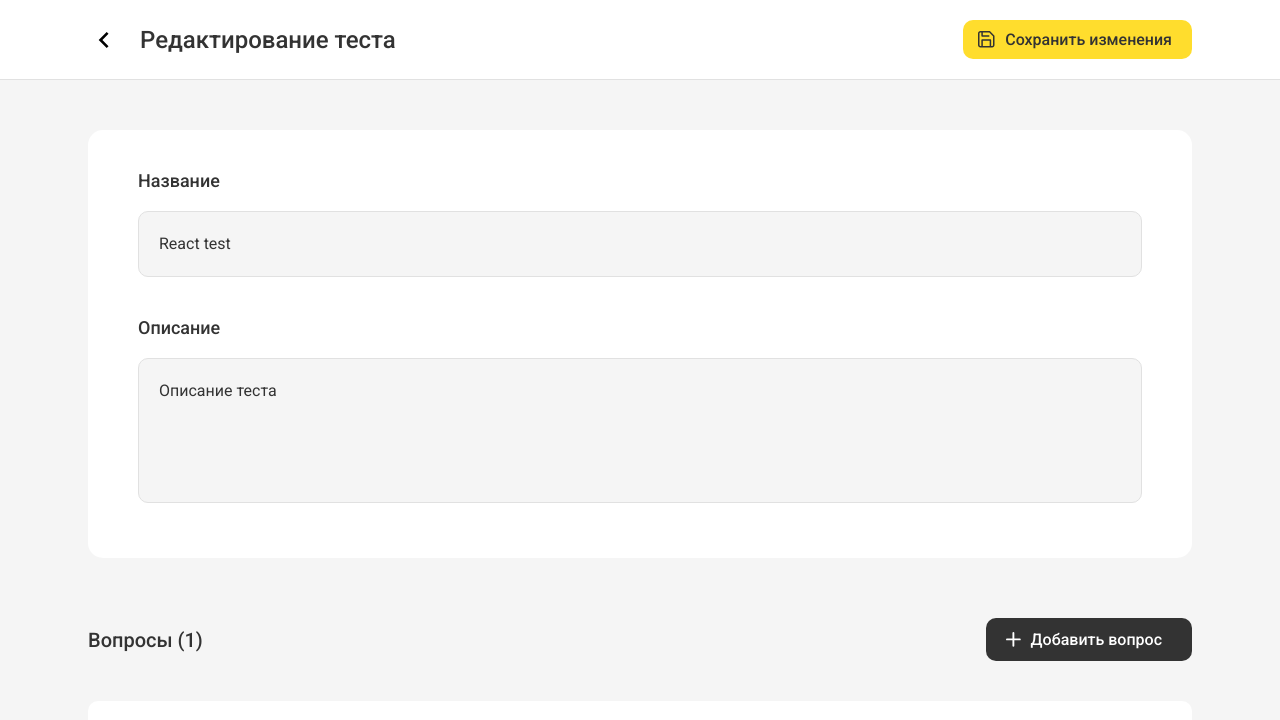
it: EditTestPage › saving › does not save when title is empty
Clear the field showing "React test" at (640,244), box [138,211,1142,277]
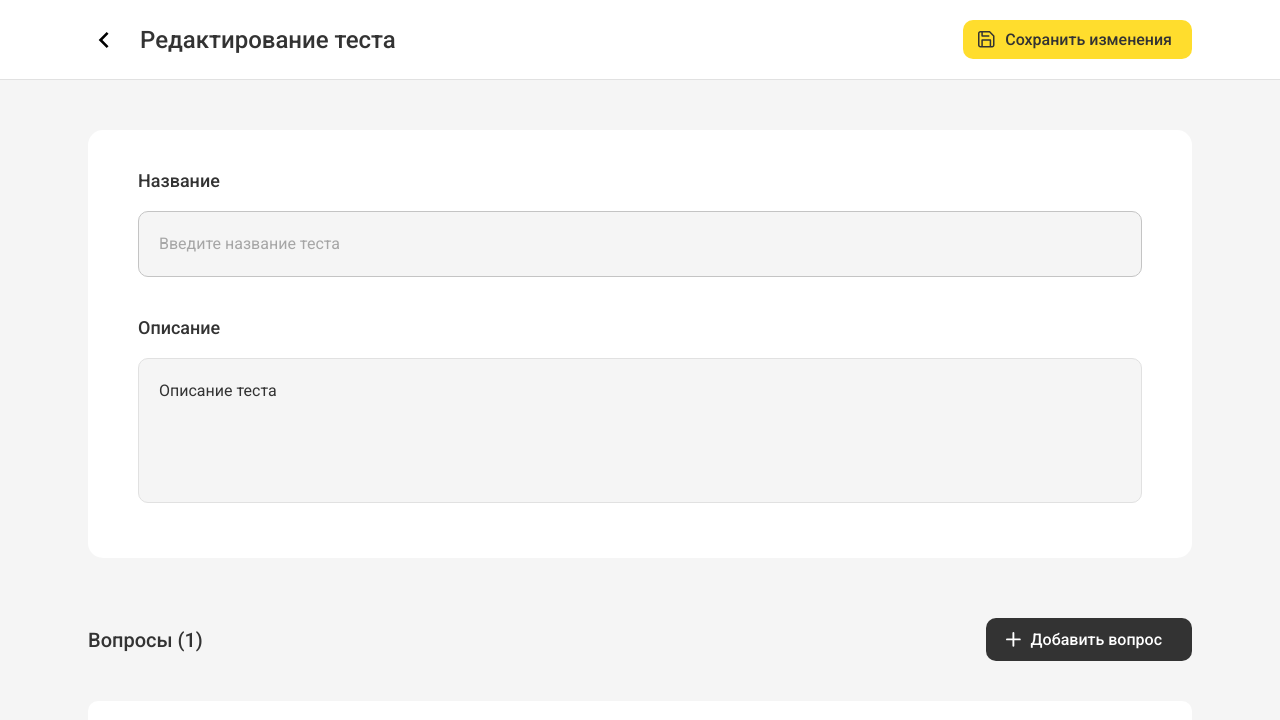
Click the button "Сохранить изменения" at (1078,40), box [963,20,1192,59]
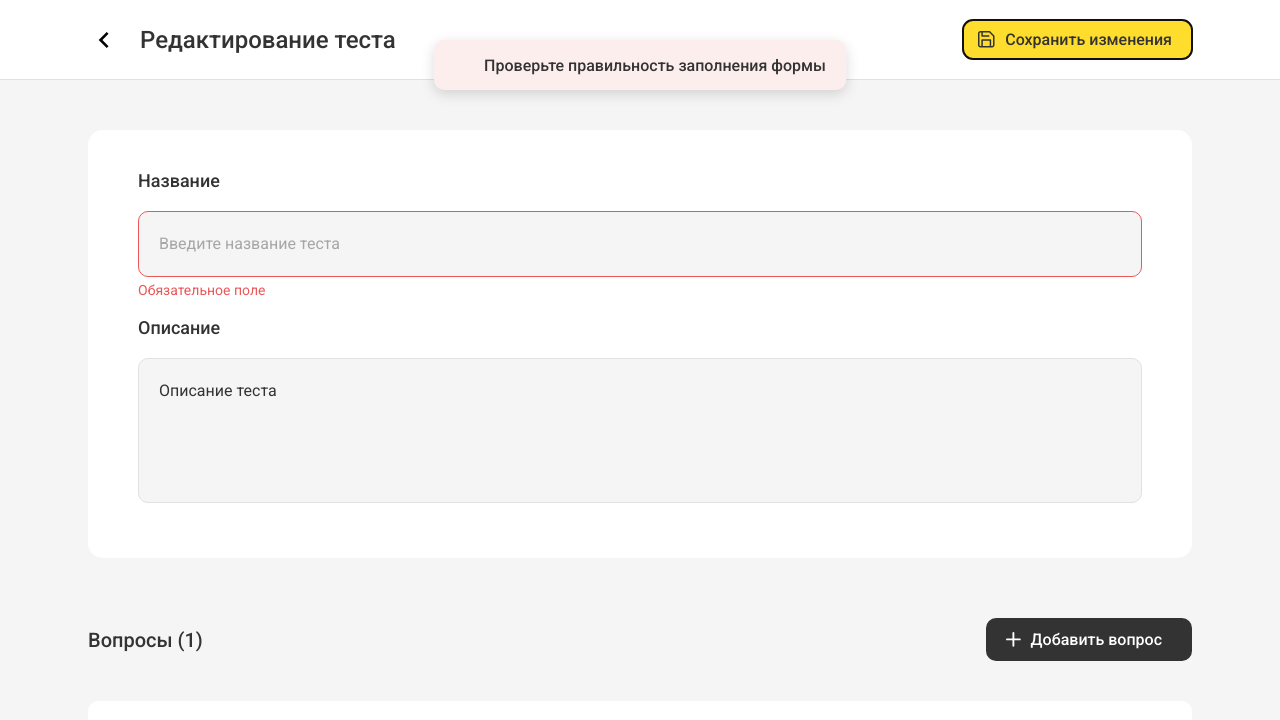
Expected: the text "Обязательное поле" is shown, [138,282,265,298]
Expected: the text "Проверьте правильность заполнения формы" is shown, [484,56,826,74]
